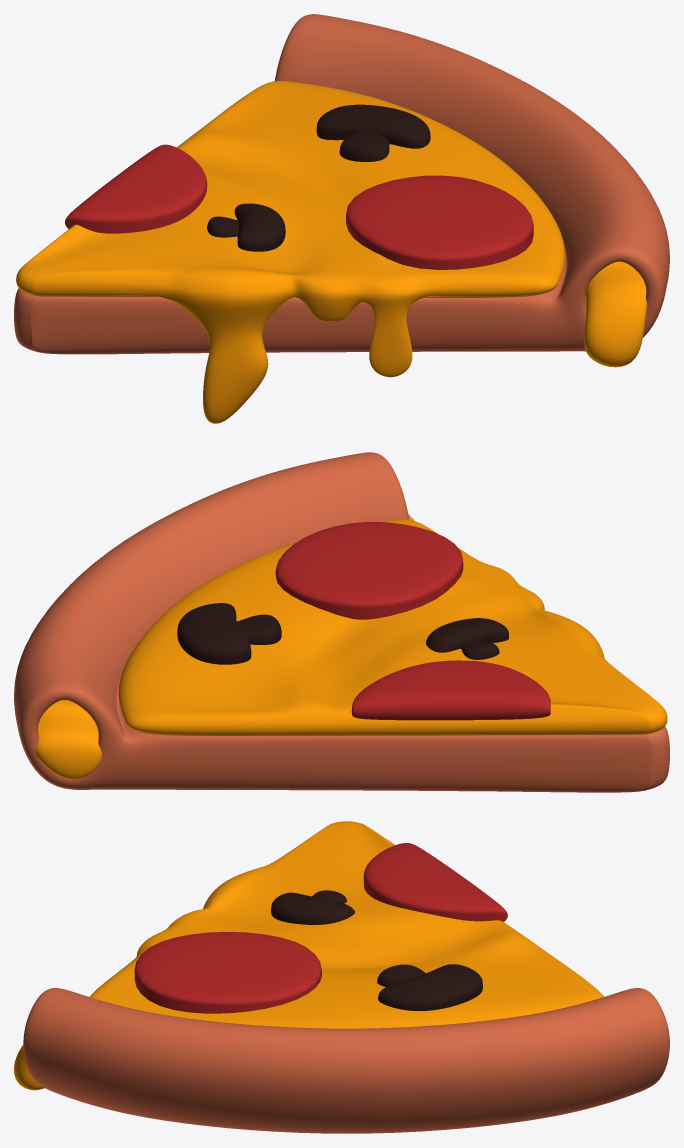
The model's file is pizzaslice.gltf.
The picture shows the model from 3 angles, top to bottom: view 1: azimuth 30°, elevation 25°; view 2: azimuth 150°, elevation 25°; view 3: azimuth 270°, elevation 25°; orthographic projection. The views are drawn at different scales.
Visible parts, largest first — view 1: Cube.004; view 2: Cube.004; view 3: Cube.004.
Boxes of the visible parts, bbox=[...] form: Cube.004: bbox=[14, 14, 669, 423]; Cube.004: bbox=[14, 452, 669, 792]; Cube.004: bbox=[14, 821, 669, 1133].
Size of the model in its own units: 8.23 by 2.38 by 8.67.
